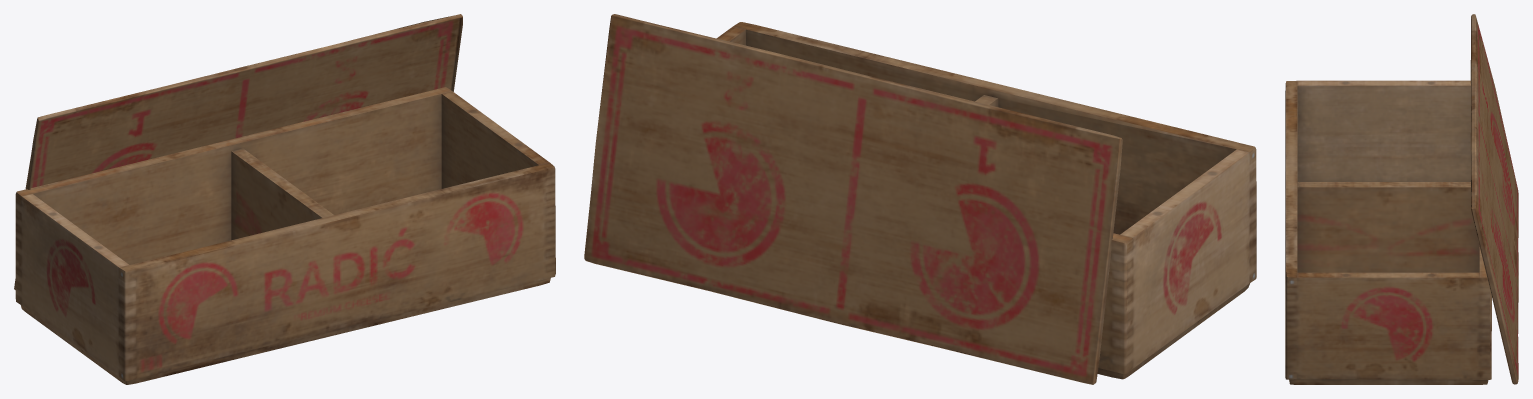
The model's file is CheeseBox_01_mini.gltf.
3 views of the same model, side by side, from view 1: azimuth 30°, elevation 25°; view 2: azimuth 150°, elevation 25°; view 3: azimuth 270°, elevation 25° (orthographic). The views are drawn at different scales.
Parts seen in each view (by area): view 1: Base_low, Lid_low; view 2: Lid_low, Base_low; view 3: Base_low, Lid_low.
Part boxes in pixels (x1,y1,x2,y2): Base_low: (15,87,555,384); Lid_low: (14,14,462,289); Lid_low: (584,14,1122,384); Base_low: (716,22,1256,379); Base_low: (1285,80,1491,384); Lid_low: (1470,14,1518,384).
Bounding box in the file's own units: 2.44 × 1.04 × 1.2.
1 material, 1 textured.
